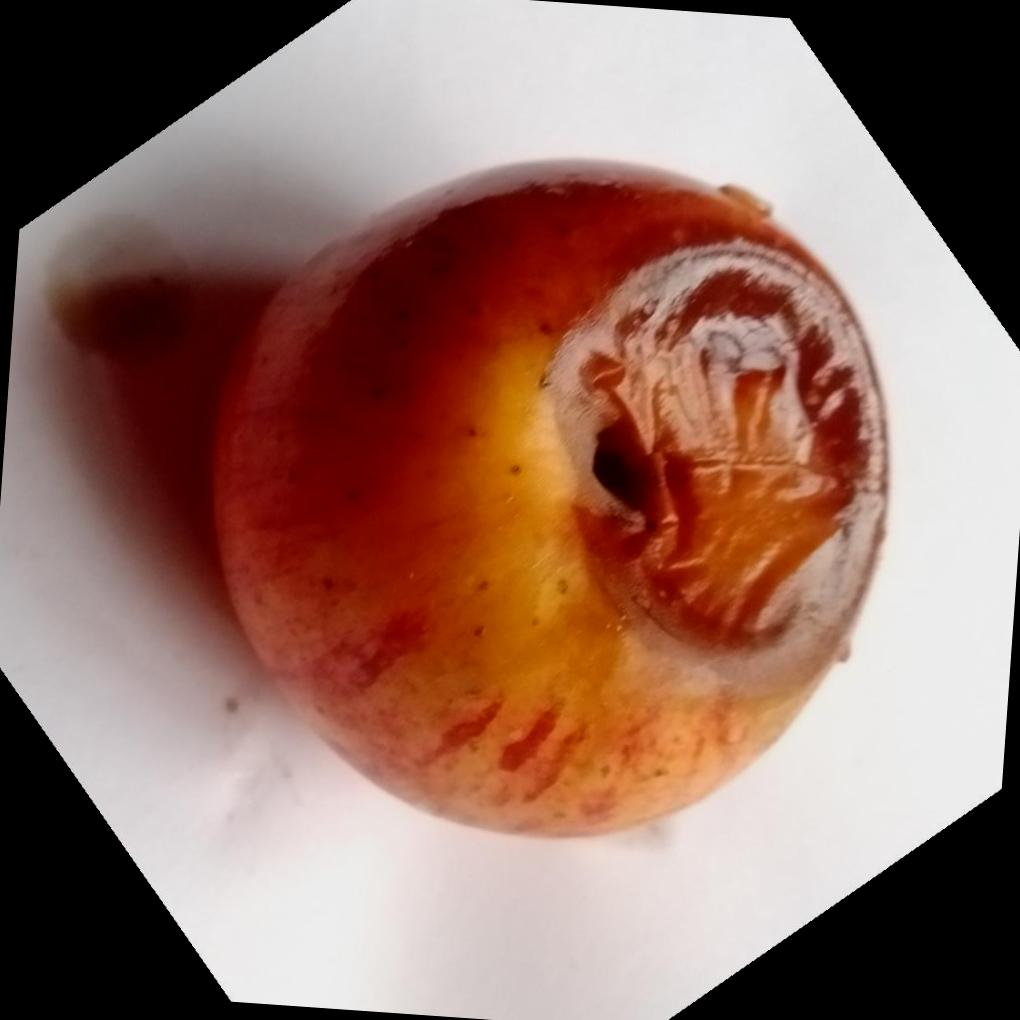FreshOrange: (203, 167, 890, 840)
